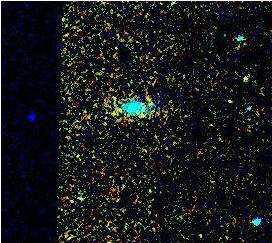star: (214, 88, 244, 118)
